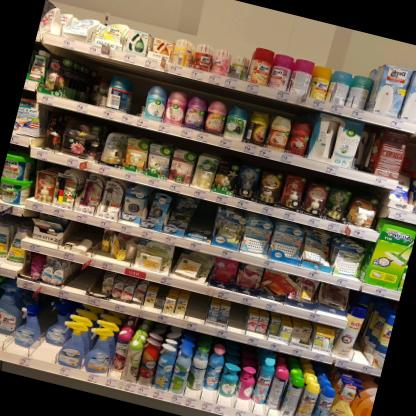empty_space: (183, 292, 211, 326), (124, 81, 149, 119), (60, 270, 95, 296), (225, 303, 250, 336)
